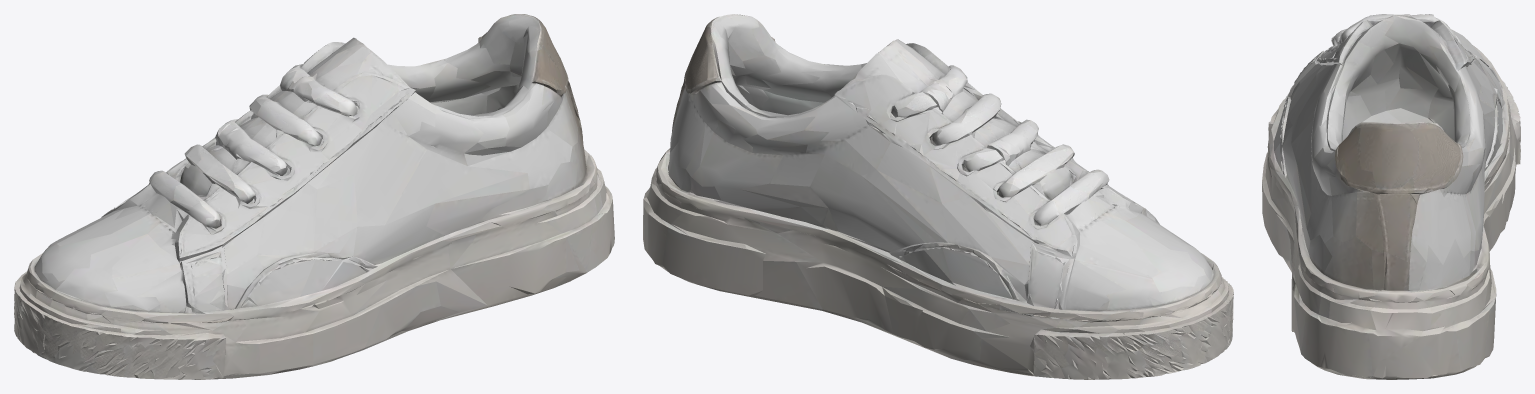
File: sneaker.glb
3 views of the same model, side by side, from view 1: azimuth 30°, elevation 25°; view 2: azimuth 150°, elevation 25°; view 3: azimuth 270°, elevation 25° (orthographic). The views are drawn at different scales.
Parts seen in each view (by area): view 1: output_unwrapped; view 2: output_unwrapped; view 3: output_unwrapped.
Part boxes in pixels (x1=…): output_unwrapped: x1=14, y1=14, x2=614, y2=379; output_unwrapped: x1=643, y1=14, x2=1233, y2=379; output_unwrapped: x1=1262, y1=14, x2=1520, y2=379.
Bounding box in the file's own units: 1.9 × 0.8127 × 0.7239.
Materials: 1 (1 with a texture image).
